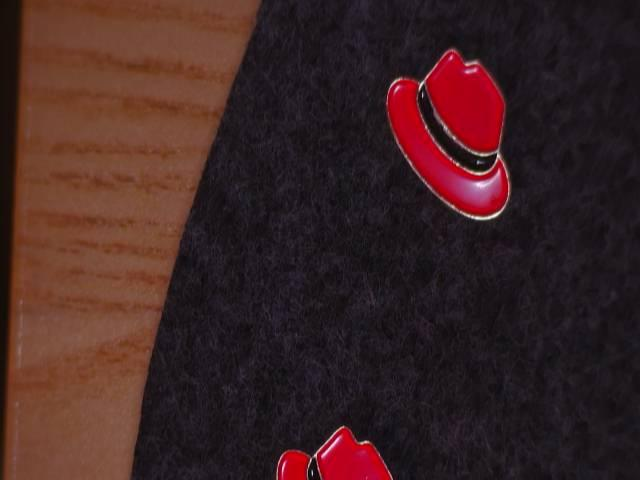Red-Hat: (361, 31, 538, 254), (260, 405, 426, 480)
